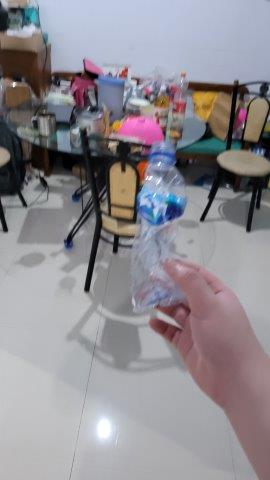botolplastik: (131, 144, 188, 309)
